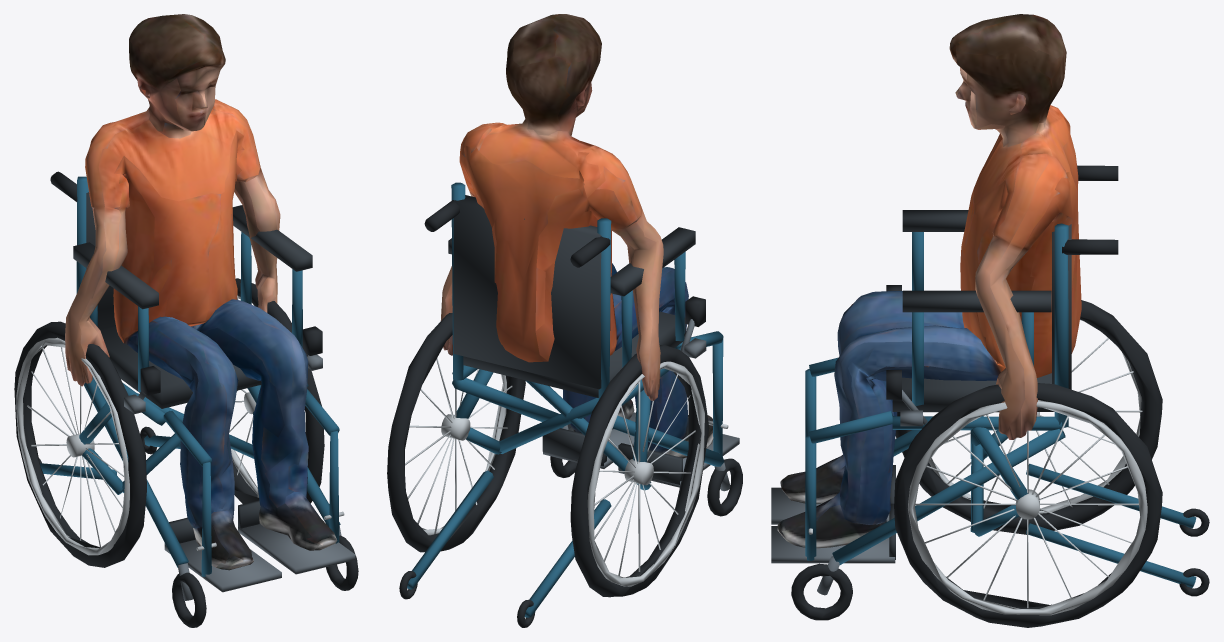
Rendered from person_11.glb.
3 views of the same model, side by side, from view 1: azimuth 30°, elevation 25°; view 2: azimuth 150°, elevation 25°; view 3: azimuth 270°, elevation 25° (orthographic). The views are drawn at different scales.
Parts seen in each view (by area): view 1: seated_child_snapshot, rear_tire_right, handrim_right, seat_cushion, footplate_left, rear_tire_left, footplate_right, frame_down_right, armrest_pad_left, armrest_pad_right, caster_tire_right, foot_hanger_adjustable_right (+18 smaller); view 2: seated_child_snapshot, backrest, rear_tire_right, rear_tire_left, handrim_right, seat_cushion, back_tube_right, anti_tip_bar_left, armrest_pad_right, frame_down_left, crossbrace_B, caster_tire_right (+19 smaller); view 3: seated_child_snapshot, rear_tire_left, rear_tire_right, handrim_left, frame_down_left, armrest_pad_left, back_tube_left, seat_cushion, footplate_left, caster_tire_left, anti_tip_bar_left, anti_tip_bar_right (+15 smaller).
Boxes of the visible parts, x1,y1,x2,y2 form: seated_child_snapshot: [65, 14, 337, 570]; rear_tire_right: [14, 321, 146, 567]; handrim_right: [16, 337, 129, 555]; seat_cushion: [100, 326, 261, 408]; footplate_left: [238, 524, 355, 574]; rear_tire_left: [232, 278, 324, 503]; footplate_right: [164, 539, 281, 592]; frame_down_right: [84, 377, 188, 567]; armrest_pad_left: [232, 205, 312, 271]; armrest_pad_right: [73, 242, 158, 309]; caster_tire_right: [172, 572, 206, 627]; foot_hanger_adjustable_right: [201, 462, 211, 576]; seated_child_snapshot: [440, 14, 713, 458]; backrest: [453, 195, 601, 389]; rear_tire_right: [570, 344, 709, 597]; rear_tire_left: [387, 313, 525, 552]; handrim_right: [587, 361, 704, 586]; seat_cushion: [463, 311, 685, 397]; back_tube_right: [597, 218, 611, 399]; anti_tip_bar_left: [407, 470, 493, 589]; armrest_pad_right: [610, 227, 695, 296]; frame_down_left: [452, 378, 563, 428]; crossbrace_B: [499, 398, 598, 453]; caster_tire_right: [707, 458, 742, 516]; seated_child_snapshot: [777, 14, 1081, 548]; rear_tire_left: [894, 383, 1162, 627]; rear_tire_right: [895, 300, 1162, 534]; handrim_left: [908, 400, 1147, 615]; frame_down_left: [832, 429, 1065, 564]; armrest_pad_left: [902, 290, 1051, 312]; back_tube_left: [1054, 223, 1068, 428]; seat_cushion: [892, 373, 1054, 411]; footplate_left: [771, 526, 895, 563]; caster_tire_left: [791, 563, 852, 620]; anti_tip_bar_left: [1026, 523, 1196, 587]; anti_tip_bar_right: [1026, 463, 1196, 528].
Bounding box in the file's own units: 0.4506 × 1.1 × 0.777.
6 materials, 1 textured.
